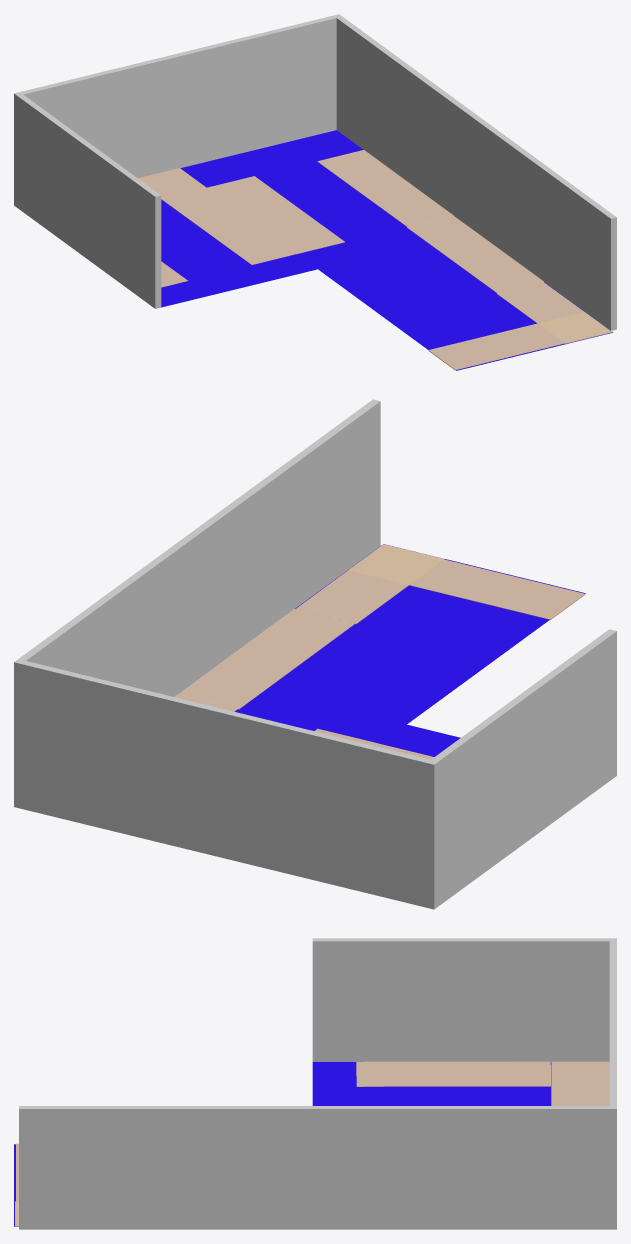
The model's file is warehousef1-front-mesh-transformed.glb.
3 views of the same model, one above another, from view 1: azimuth 30°, elevation 25°; view 2: azimuth 150°, elevation 25°; view 3: azimuth 270°, elevation 25° (orthographic). The views are drawn at different scales.
Parts seen in each view (by area): view 1: Wall, Floor.003, leftleft, rightright1.002; view 2: Wall, Floor.003, leftleft, rightright1.002; view 3: Wall, leftleft, Floor.003.
Part boxes in pixels (x1=…): Wall: x1=14, y1=14, x2=616, y2=330; Floor.003: x1=161, y1=130, x2=612, y2=370; leftleft: x1=138, y1=150, x2=610, y2=370; rightright1.002: x1=496, y1=282, x2=611, y2=343; Wall: x1=14, y1=399, x2=616, y2=909; Floor.003: x1=235, y1=544, x2=585, y2=756; leftleft: x1=174, y1=545, x2=585, y2=759; rightright1.002: x1=296, y1=544, x2=443, y2=623; Wall: x1=19, y1=938, x2=616, y2=1229; leftleft: x1=15, y1=1061, x2=609, y2=1225; Floor.003: x1=14, y1=1062, x2=551, y2=1226.
Bounding box in the file's own units: 6.32 × 2.09 × 9.44.
